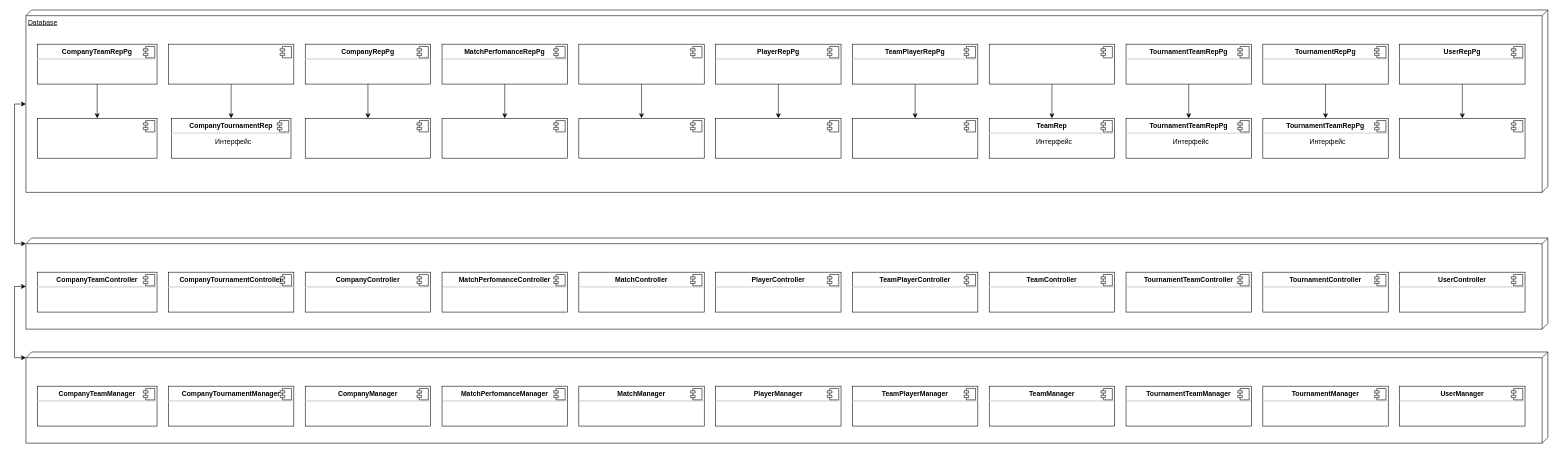
This 1558x454 diagram has some shape labels left out. The box of each missing label's shape, as (x1, y1, x2, y2) in pixels:
Business Logic: (25, 237, 1548, 329)
CompanyRep Интерфейс: (305, 118, 431, 158)
CompanyTeamRep Интерфейс: (37, 118, 157, 158)
CompanyTournamentRepPg: (168, 44, 294, 84)
Gui: (25, 351, 1548, 443)
MatchPerfomanceRep Интерфейс: (441, 118, 567, 158)
MatchRep Интерфейс: (578, 118, 704, 158)
MatchRepPg: (578, 44, 704, 84)
PlayerRep Интерфейс: (715, 118, 841, 158)
TeamPlayerRep Интерфейс: (852, 118, 978, 158)
TeamRepPg: (989, 44, 1115, 84)
UserRep Интерфейс: (1399, 118, 1525, 158)
